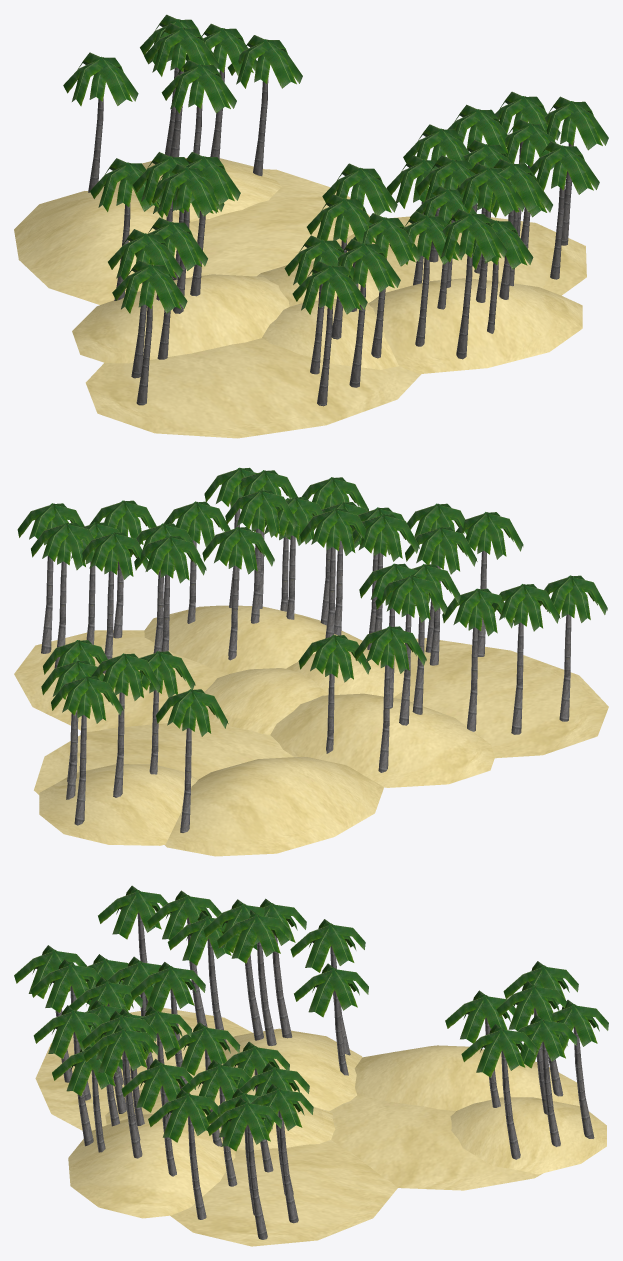
The model's file is island.obj.
3 renders of one model, top to bottom at view 1: azimuth 30°, elevation 25°; view 2: azimuth 150°, elevation 25°; view 3: azimuth 270°, elevation 25°, orthographic. The views are drawn at different scales.
Parts seen in each view (by area): view 1: pCylinder4 Mesh, pCylinder6 Mesh, pCylinder5 Mesh, group1 pasted__palm11 Mesh, group1 pasted__palm13 Mesh, group1 pasted__palm15 Mesh, group1 pasted__palm33 Mesh, group1 pasted__palm35 Mesh, group1 pasted__palm23 Mesh, group1 pasted__palm8 Mesh, group1 pasted__palm34 Mesh, group1 pasted__palm7 Mesh (+25 smaller); view 2: pCylinder6 Mesh, pCylinder4 Mesh, pCylinder5 Mesh, group1 pasted__palm32 Mesh, group1 pasted__palm9 Mesh, group1 pasted__palm33 Mesh, group1 pasted__palm7 Mesh, group1 pasted__palm26 Mesh, group1 pasted__palm11 Mesh, group1 pasted__palm31 Mesh, group1 pasted__palm2 Mesh, group1 pasted__palm10 Mesh (+27 smaller); view 3: pCylinder6 Mesh, pCylinder5 Mesh, pCylinder4 Mesh, group1 pasted__palm25 Mesh, group1 pasted__palm35 Mesh, group1 pasted__palm3 Mesh, group1 pasted__palm19 Mesh, group1 pasted__palm23 Mesh, group1 pasted__palm36 Mesh, group1 pasted__palm30 Mesh, group1 pasted__palm21 Mesh, group1 pasted__palm9 Mesh (+27 smaller).
Boxes of the visible parts, x1,y1,x2,y2 form: pCylinder4 Mesh: [72, 274, 421, 438]; pCylinder6 Mesh: [14, 158, 369, 304]; pCylinder5 Mesh: [256, 216, 586, 373]; group1 pasted__palm11 Mesh: [112, 260, 187, 405]; group1 pasted__palm13 Mesh: [292, 261, 367, 406]; group1 pasted__palm15 Mesh: [432, 209, 507, 359]; group1 pasted__palm33 Mesh: [63, 52, 138, 192]; group1 pasted__palm35 Mesh: [227, 35, 302, 176]; group1 pasted__palm23 Mesh: [529, 141, 599, 279]; group1 pasted__palm8 Mesh: [337, 239, 400, 387]; group1 pasted__palm34 Mesh: [161, 59, 236, 154]; group1 pasted__palm7 Mesh: [108, 229, 182, 378]; pCylinder6 Mesh: [34, 721, 383, 856]; pCylinder4 Mesh: [270, 638, 608, 787]; pCylinder5 Mesh: [14, 605, 366, 734]; group1 pasted__palm32 Mesh: [51, 676, 123, 825]; group1 pasted__palm9 Mesh: [354, 626, 426, 772]; group1 pasted__palm33 Mesh: [156, 689, 228, 832]; group1 pasted__palm7 Mesh: [492, 584, 560, 734]; group1 pasted__palm26 Mesh: [202, 526, 274, 660]; group1 pasted__palm11 Mesh: [537, 575, 607, 721]; group1 pasted__palm31 Mesh: [91, 653, 160, 797]; group1 pasted__palm2 Mesh: [375, 575, 447, 725]; group1 pasted__palm10 Mesh: [442, 588, 514, 731]; pCylinder6 Mesh: [329, 1045, 606, 1190]; pCylinder5 Mesh: [68, 1101, 397, 1246]; pCylinder4 Mesh: [35, 1008, 362, 1130]; group1 pasted__palm25 Mesh: [207, 1097, 281, 1239]; group1 pasted__palm35 Mesh: [461, 1023, 536, 1159]; group1 pasted__palm3 Mesh: [217, 910, 291, 1045]; group1 pasted__palm19 Mesh: [83, 1025, 158, 1158]; group1 pasted__palm23 Mesh: [148, 1089, 221, 1219]; group1 pasted__palm36 Mesh: [294, 963, 368, 1075]; group1 pasted__palm30 Mesh: [517, 1014, 577, 1146]; group1 pasted__palm21 Mesh: [121, 1059, 195, 1176]; group1 pasted__palm9 Mesh: [290, 919, 365, 1055].
Size of the model in its own units: 62.4 by 21.65 by 64.06.
39 materials, 39 textured.
